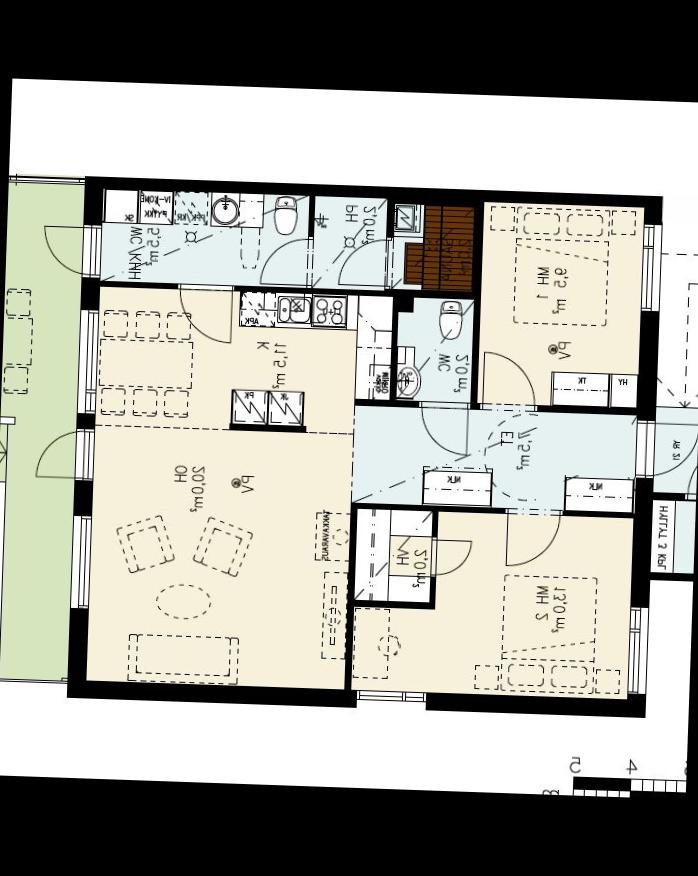door: (174, 275, 242, 349), (500, 498, 564, 570), (476, 346, 543, 414), (630, 416, 698, 481), (31, 425, 100, 485), (38, 219, 105, 279), (414, 396, 476, 460), (258, 231, 318, 290), (338, 231, 394, 290), (418, 534, 474, 582), (683, 436, 698, 504)
window: (72, 304, 110, 422), (63, 506, 101, 618), (636, 216, 669, 318), (626, 599, 658, 700), (350, 683, 431, 714)
